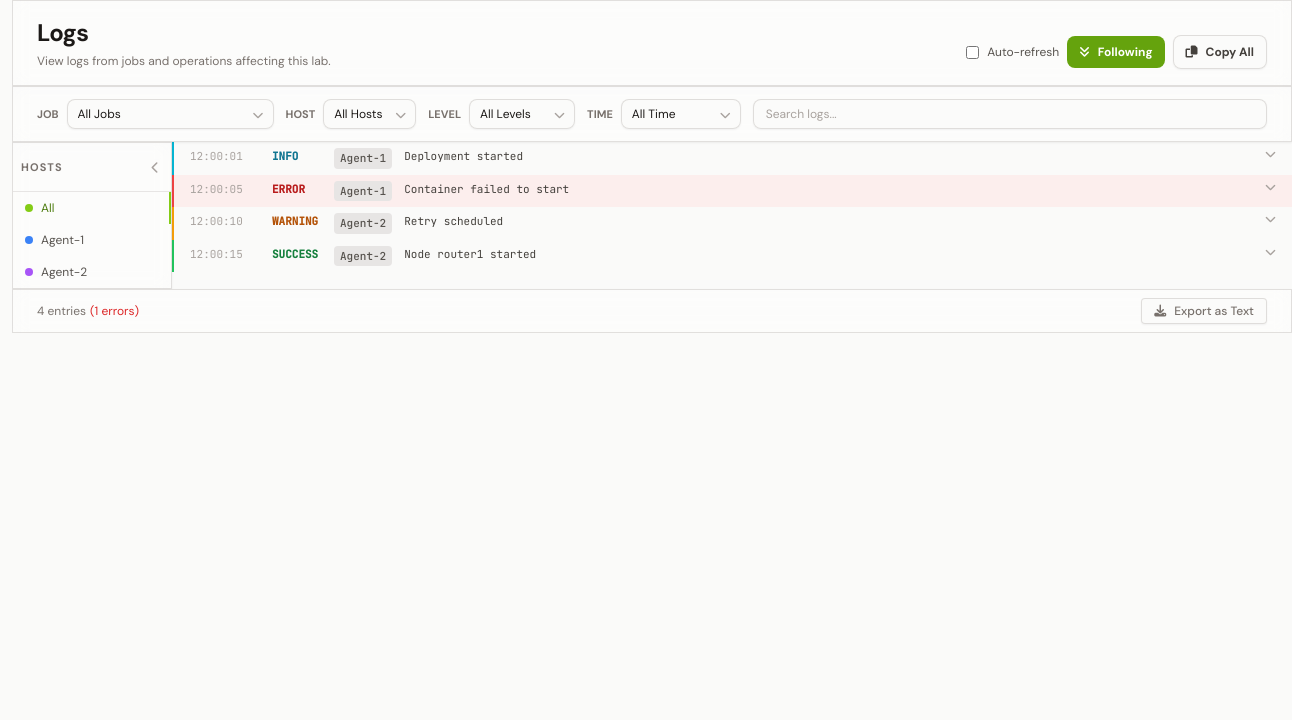
Test: LogsView - details and pipeline › collapses entry via the close button
The image size is (1292, 720).
Click the text "Deployment started".
click(464, 156)  # box x1=404 y1=149 x2=523 y2=163
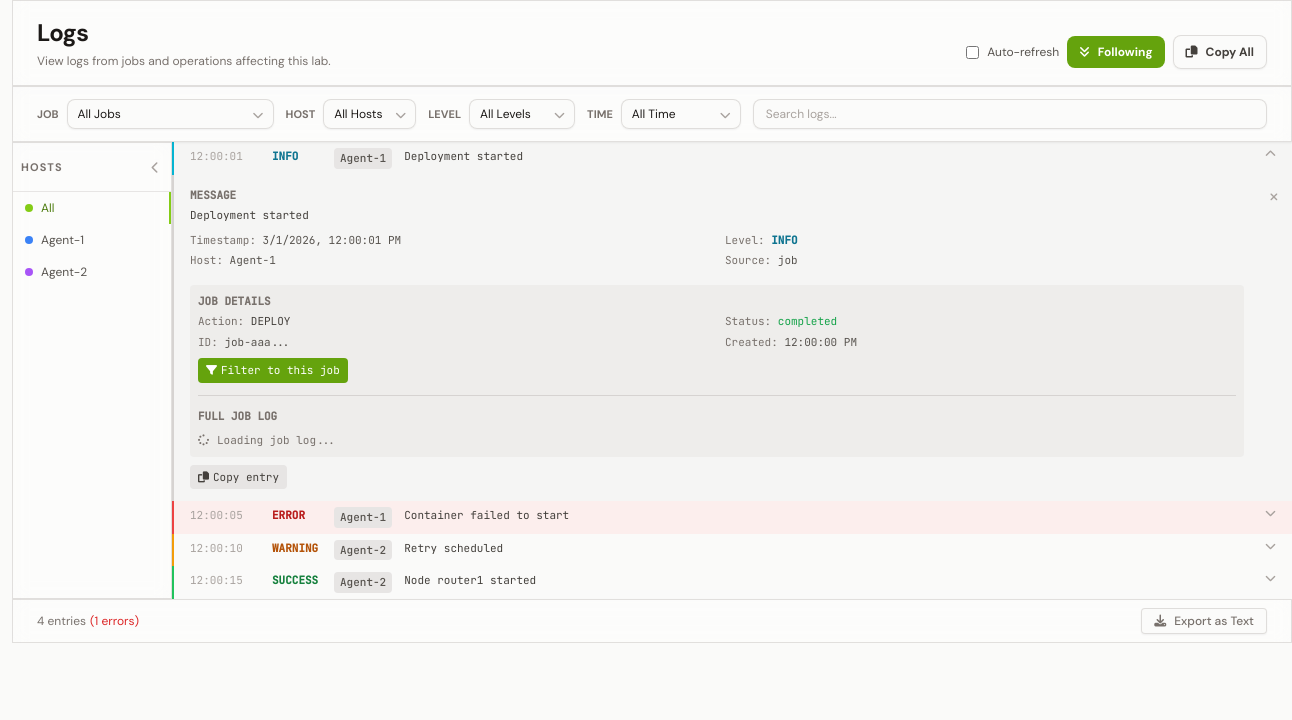
Expected: the text "Message" is shown, x1=190 y1=188 x2=236 y2=202
Click the button titled "Collapse".
click(1274, 197)  # box x1=1264 y1=182 x2=1284 y2=211
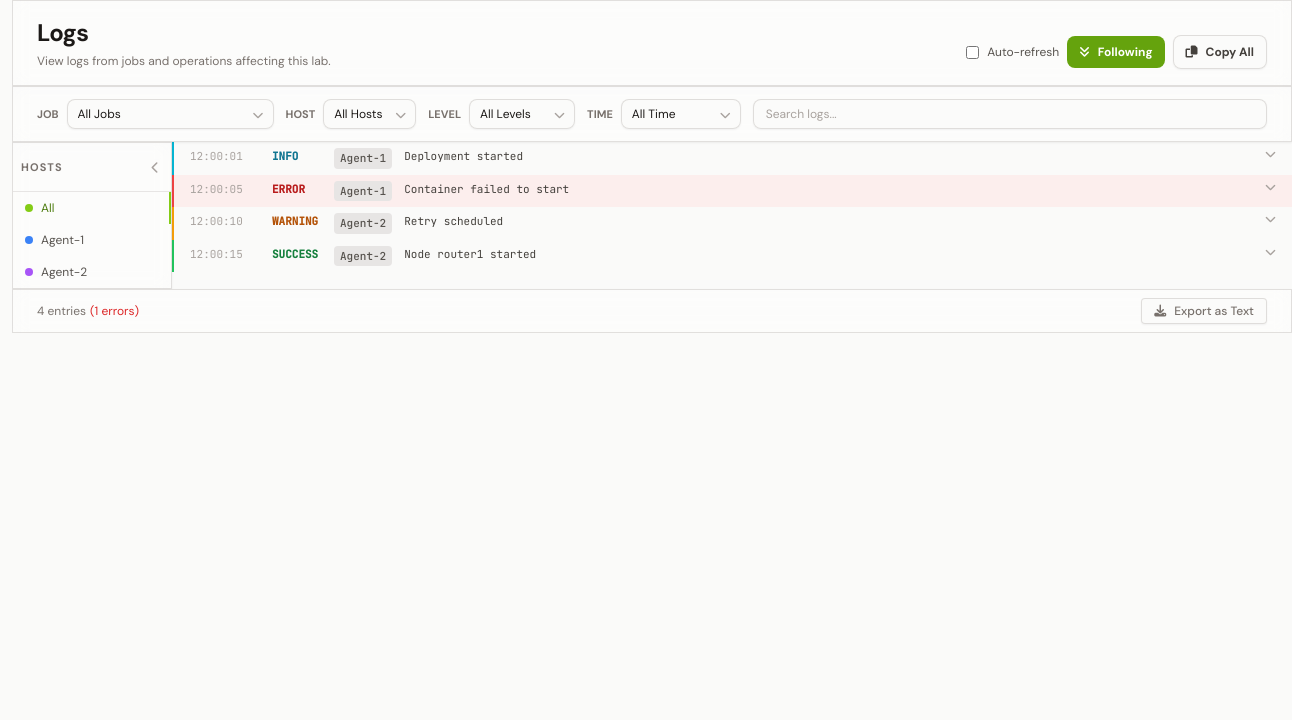
Expected: the text "Message" is gone
